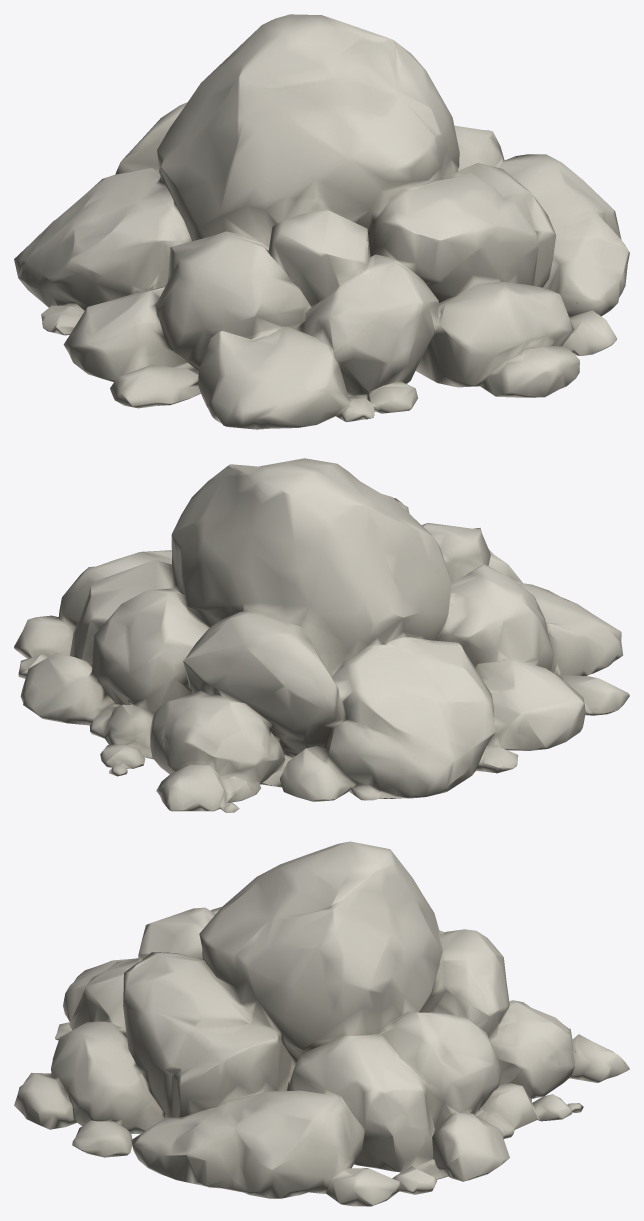
The model's file is boulder1.fbx.
The picture shows the model from 3 angles, top to bottom: view 1: azimuth 30°, elevation 25°; view 2: azimuth 150°, elevation 25°; view 3: azimuth 270°, elevation 25°; orthographic projection. The views are drawn at different scales.
Parts seen in each view (by area): view 1: tripo_node_4c466fd8; view 2: tripo_node_4c466fd8; view 3: tripo_node_4c466fd8.
Part boxes in pixels (box(x1,y1,x2,y2)): tripo_node_4c466fd8: box(14, 14, 629, 429); tripo_node_4c466fd8: box(14, 458, 629, 812); tripo_node_4c466fd8: box(14, 841, 629, 1206).
Size of the model in its own units: 0.9287 by 0.4075 by 0.9795.
